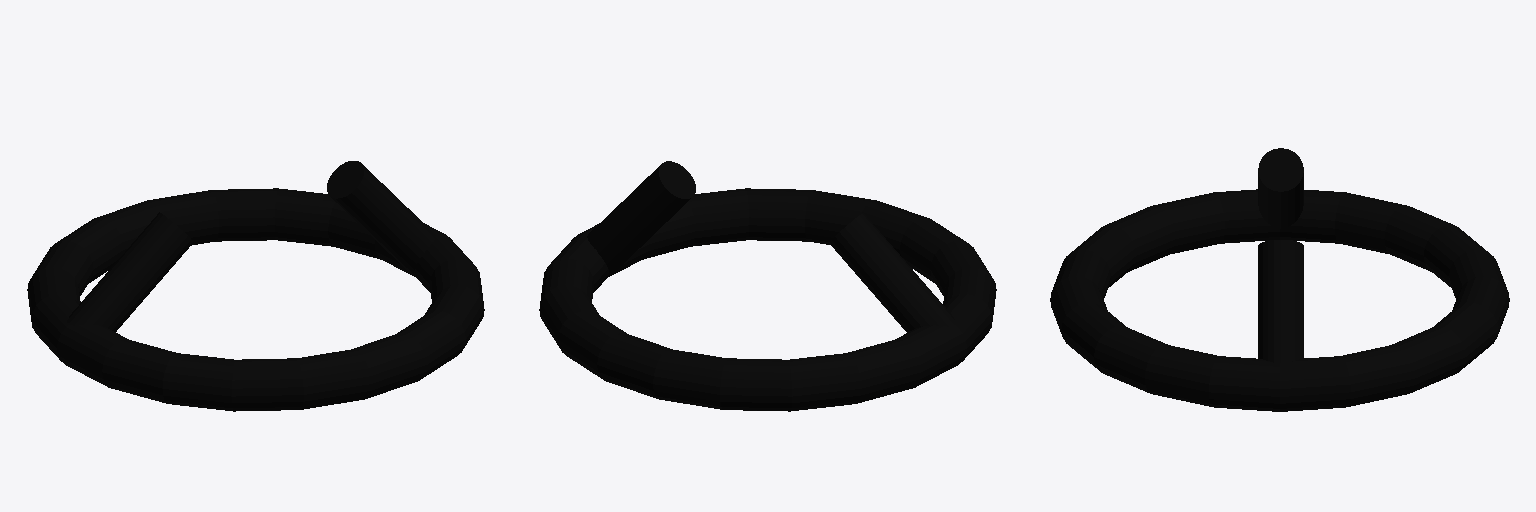
File: frame.obj
The picture shows the model from 3 angles: view 1: azimuth 30°, elevation 25°; view 2: azimuth 150°, elevation 25°; view 3: azimuth 270°, elevation 25°; orthographic projection.
Parts seen in each view (by area): view 1: group8 group3 pTorus2, group8 group3 pasted__pasted__pCylinder1, pasted__pCylinder1 group8 group3; view 2: group8 group3 pTorus2, group8 group3 pasted__pasted__pCylinder1, pasted__pCylinder1 group8 group3; view 3: group8 group3 pTorus2, pasted__pCylinder1 group8 group3, group8 group3 pasted__pasted__pCylinder1.
Part boxes in pixels (bbox=[...]): group8 group3 pTorus2: bbox=[27, 188, 484, 411]; group8 group3 pasted__pasted__pCylinder1: bbox=[67, 212, 193, 331]; pasted__pCylinder1 group8 group3: bbox=[327, 161, 435, 276]; group8 group3 pTorus2: bbox=[539, 188, 996, 411]; group8 group3 pasted__pasted__pCylinder1: bbox=[829, 213, 955, 332]; pasted__pCylinder1 group8 group3: bbox=[587, 161, 695, 276]; group8 group3 pTorus2: bbox=[1050, 189, 1509, 411]; pasted__pCylinder1 group8 group3: bbox=[1258, 240, 1303, 362]; group8 group3 pasted__pasted__pCylinder1: bbox=[1258, 148, 1303, 228].
Size of the model in its own units: 8.79 by 2.85 by 8.79.